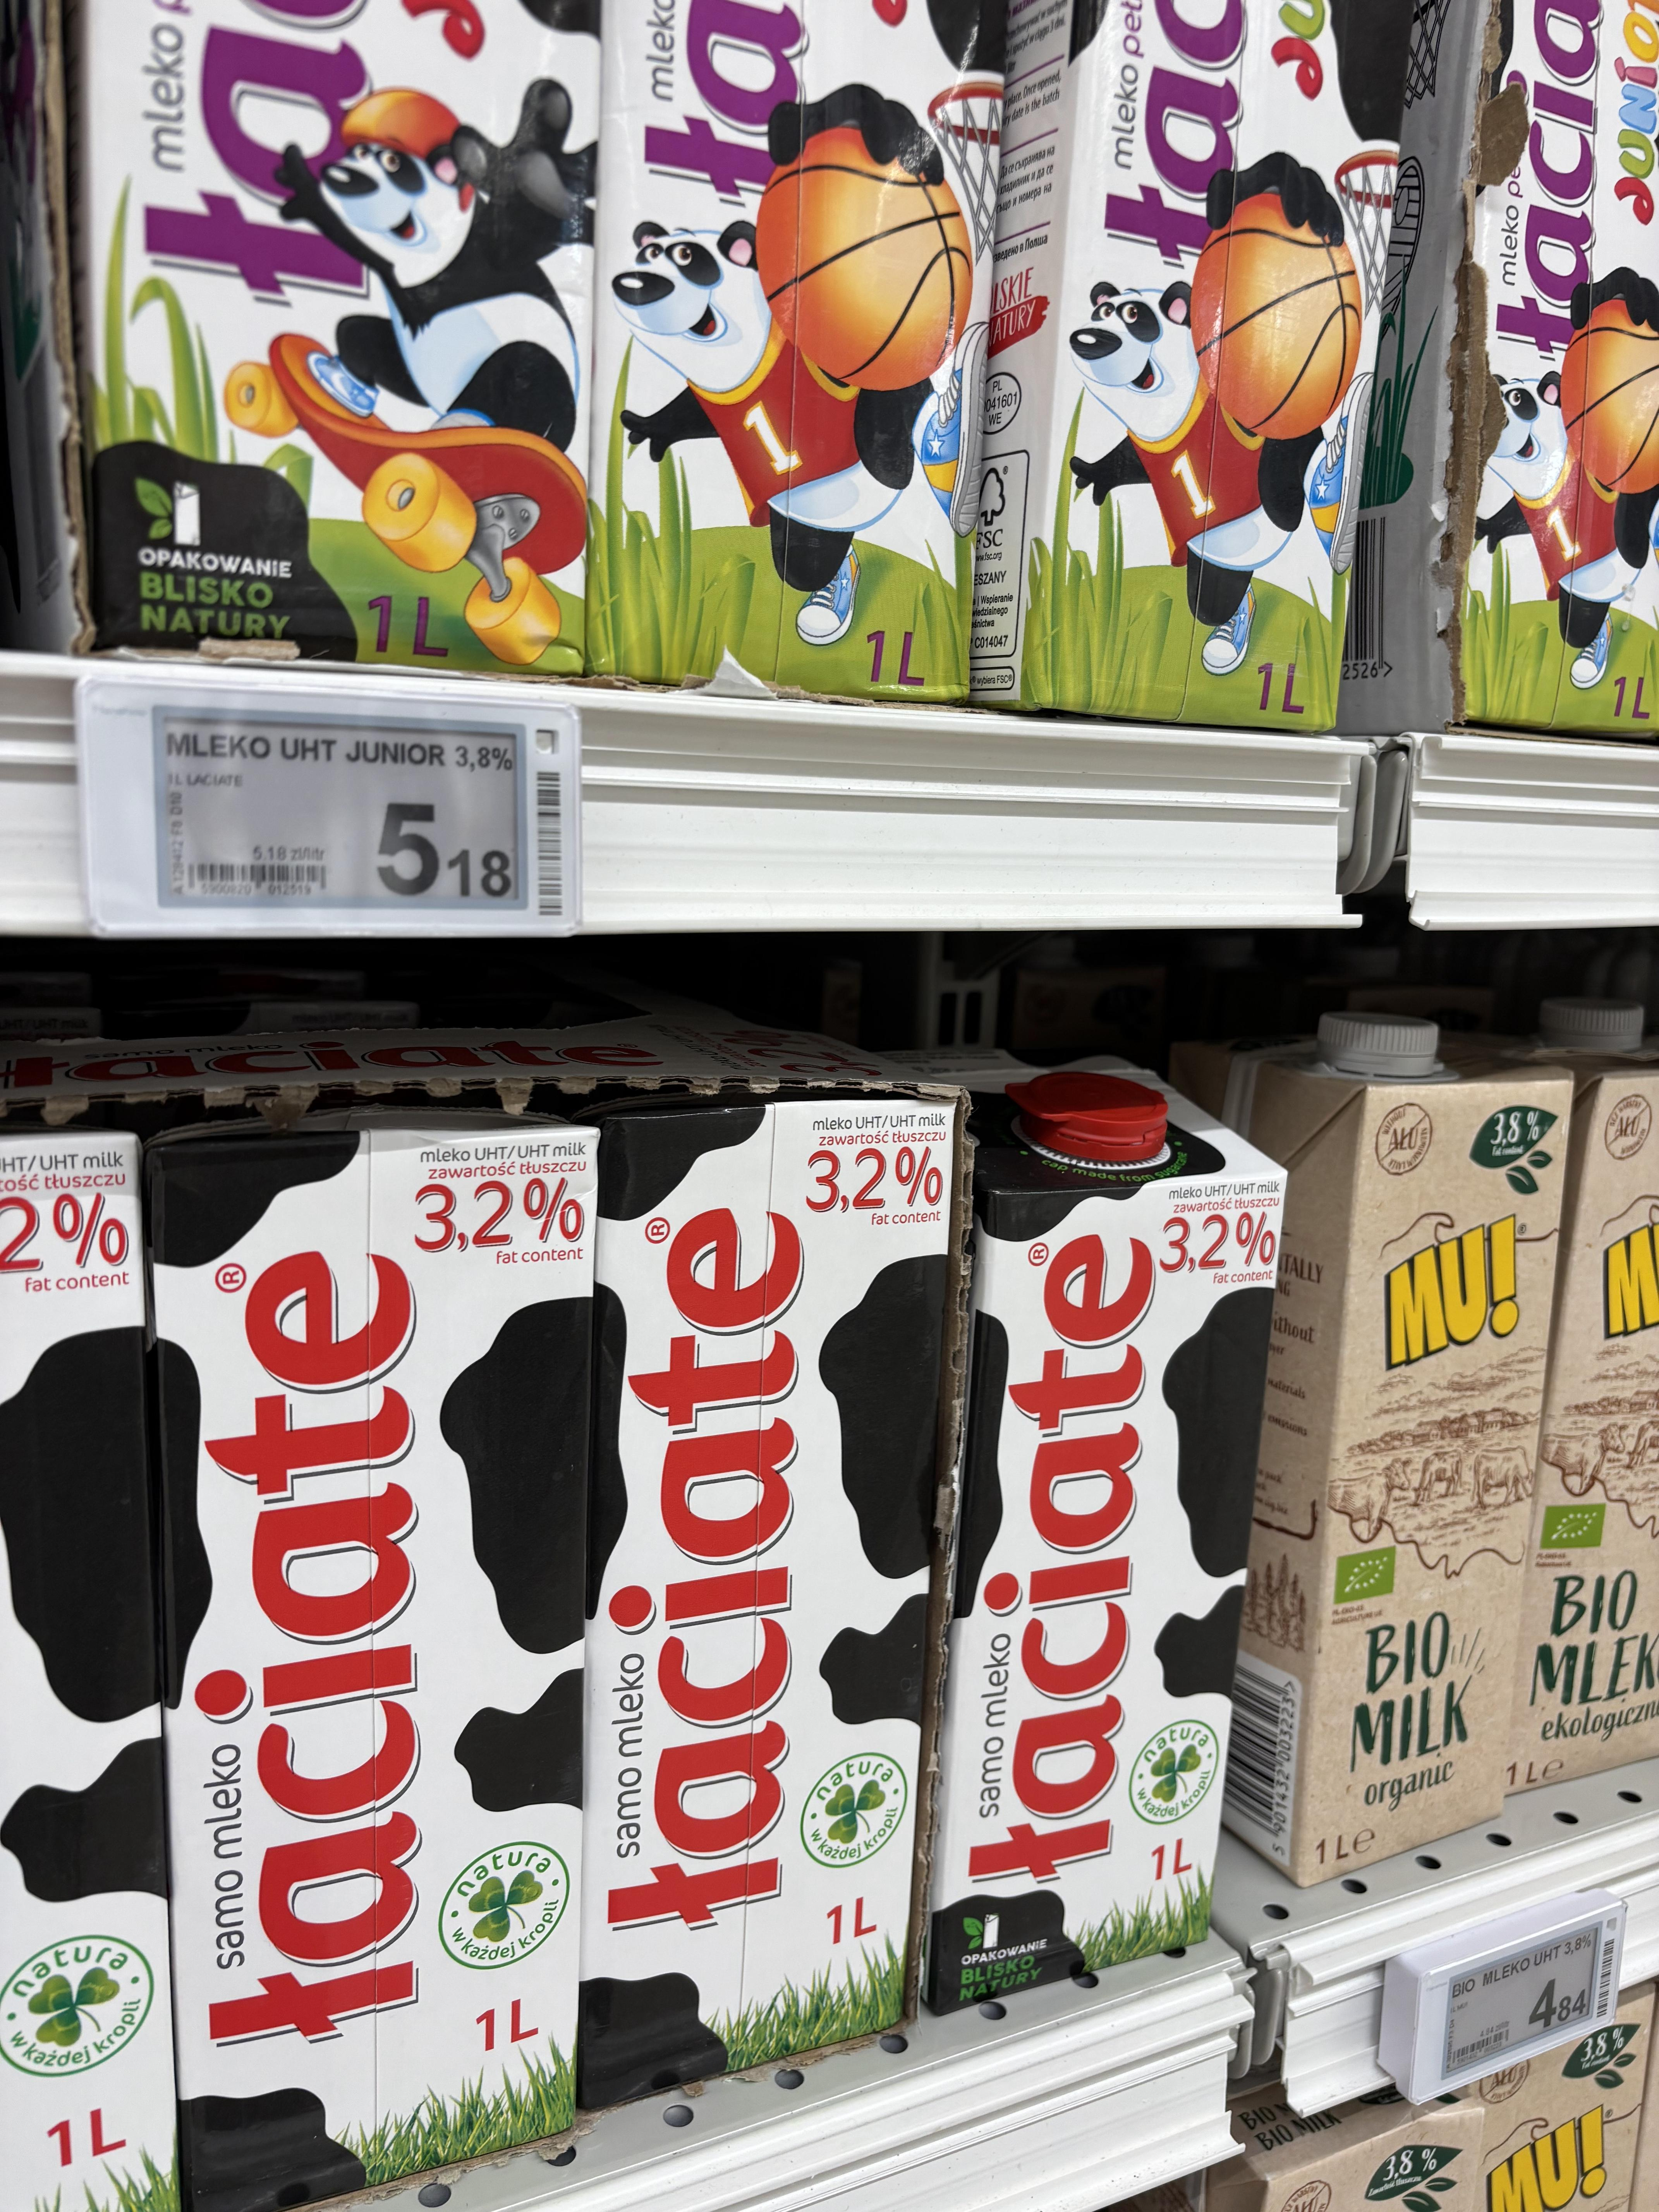Milk: (101, 1123, 591, 2179), (582, 1080, 938, 2107), (950, 1080, 1246, 2015), (1263, 1036, 1572, 1905)
